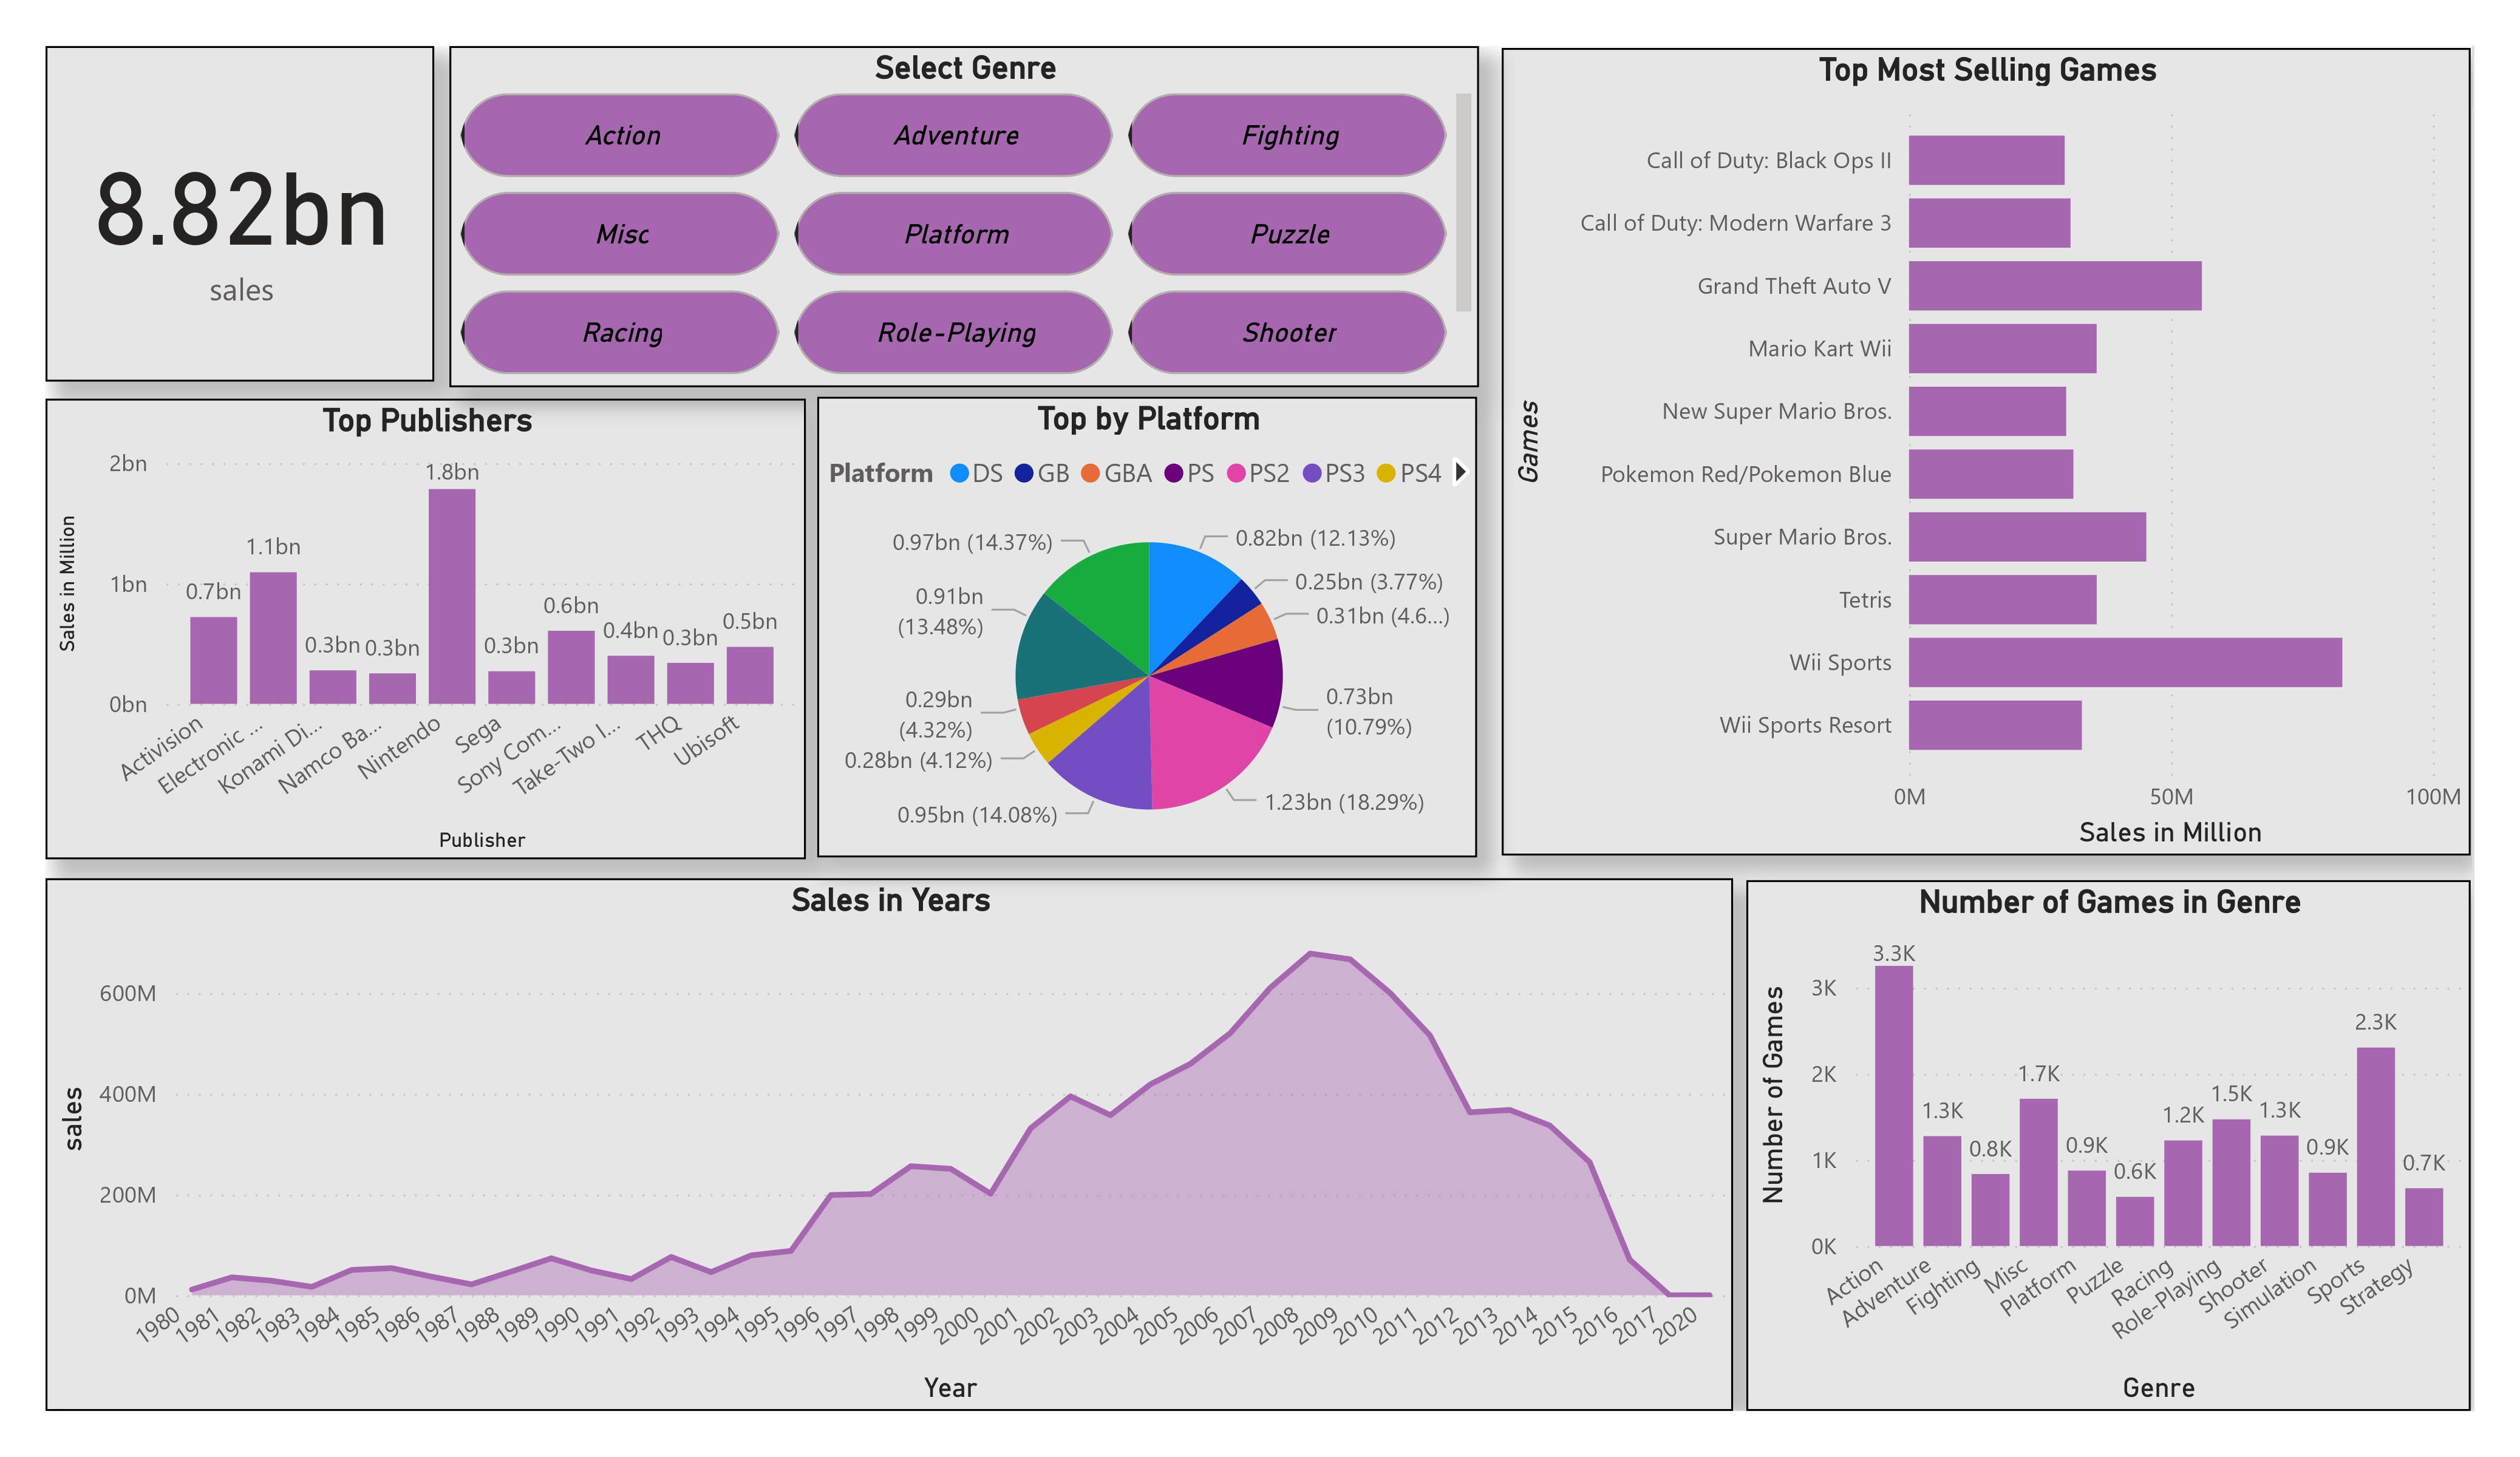

Layout of this report page (visuals, bound fields, positions):
{"tool":"powerbi","page":{"name":"Page 1","canvas":[1280,720],"ordinal":0},"visuals":[{"type":"barChart","title":"Top Most Selling Games","fields":{"Category":["vgsales.Name"],"Y":["vgsales.sales"]},"box":[767.9,1.1,511.6,426.1],"z":0},{"type":"card","fields":{"Values":["vgsales.sales"]},"box":[0,0,204.6,177.5],"z":1000},{"type":"columnChart","title":"Top Publishers","fields":{"Category":["vgsales.Publisher"],"Y":["vgsales.sales"]},"box":[0,186.3,401.3,243],"z":2000},{"type":"areaChart","title":"Sales in Years","fields":{"Category":["vgsales.Year"],"Y":["vgsales.sales"]},"box":[0,438.6,889.5,281.4],"z":3000},{"type":"advancedSlicerVisual","title":"Select Genre","fields":{"Values":["vgsales.Genre"]},"box":[212.9,0,543.2,179.7],"z":4000},{"type":"pieChart","title":"Top by Platform","fields":{"Category":["vgsales.Platform"],"Y":["vgsales.sales"]},"box":[406.7,185.1,348.1,243],"z":5000},{"type":"columnChart","title":"Number of Games in  Genre","fields":{"Category":["vgsales.Genre"],"Y":["CountNonNull(vgsales.Name)"]},"box":[897.5,440.4,382,279.6],"z":6000}]}

Visuals, with their boxes on the page's 1280x720 design canvas (x1, y1, x2, y2). These are canvas units, not pixel positions in the 2520x1457 screenshot, which may show the page scaled, cropped or inside an application window:
"Top Most Selling Games" barChart: pyautogui.locateOnScreen(768, 1, 1280, 427)
card - vgsales.sales: pyautogui.locateOnScreen(0, 0, 205, 178)
"Top Publishers" columnChart: pyautogui.locateOnScreen(0, 186, 401, 429)
"Sales in Years" areaChart: pyautogui.locateOnScreen(0, 439, 890, 720)
"Select Genre" advancedSlicerVisual: pyautogui.locateOnScreen(213, 0, 756, 180)
"Top by Platform" pieChart: pyautogui.locateOnScreen(407, 185, 755, 428)
"Number of Games in  Genre" columnChart: pyautogui.locateOnScreen(898, 440, 1280, 720)
